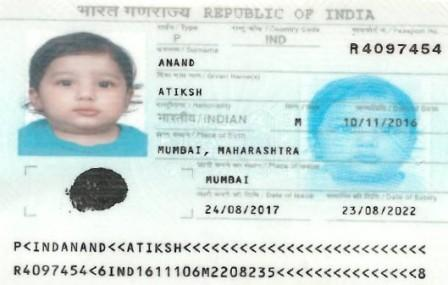DOB: (341, 116, 420, 129)
Surname: (154, 54, 202, 70)
country_code: (260, 33, 292, 50)
date_of_expiry: (338, 202, 421, 220)
date_of_issue: (202, 202, 284, 217)
details: (10, 235, 432, 280)
name: (155, 82, 204, 96)
nationality: (158, 111, 250, 126)
passport_no: (345, 41, 446, 58)
photo: (18, 26, 147, 155)
place_of_birth: (156, 142, 301, 158)
place_of_issue: (202, 172, 253, 186)
sex: (290, 117, 305, 127)
type: (170, 32, 185, 45)
